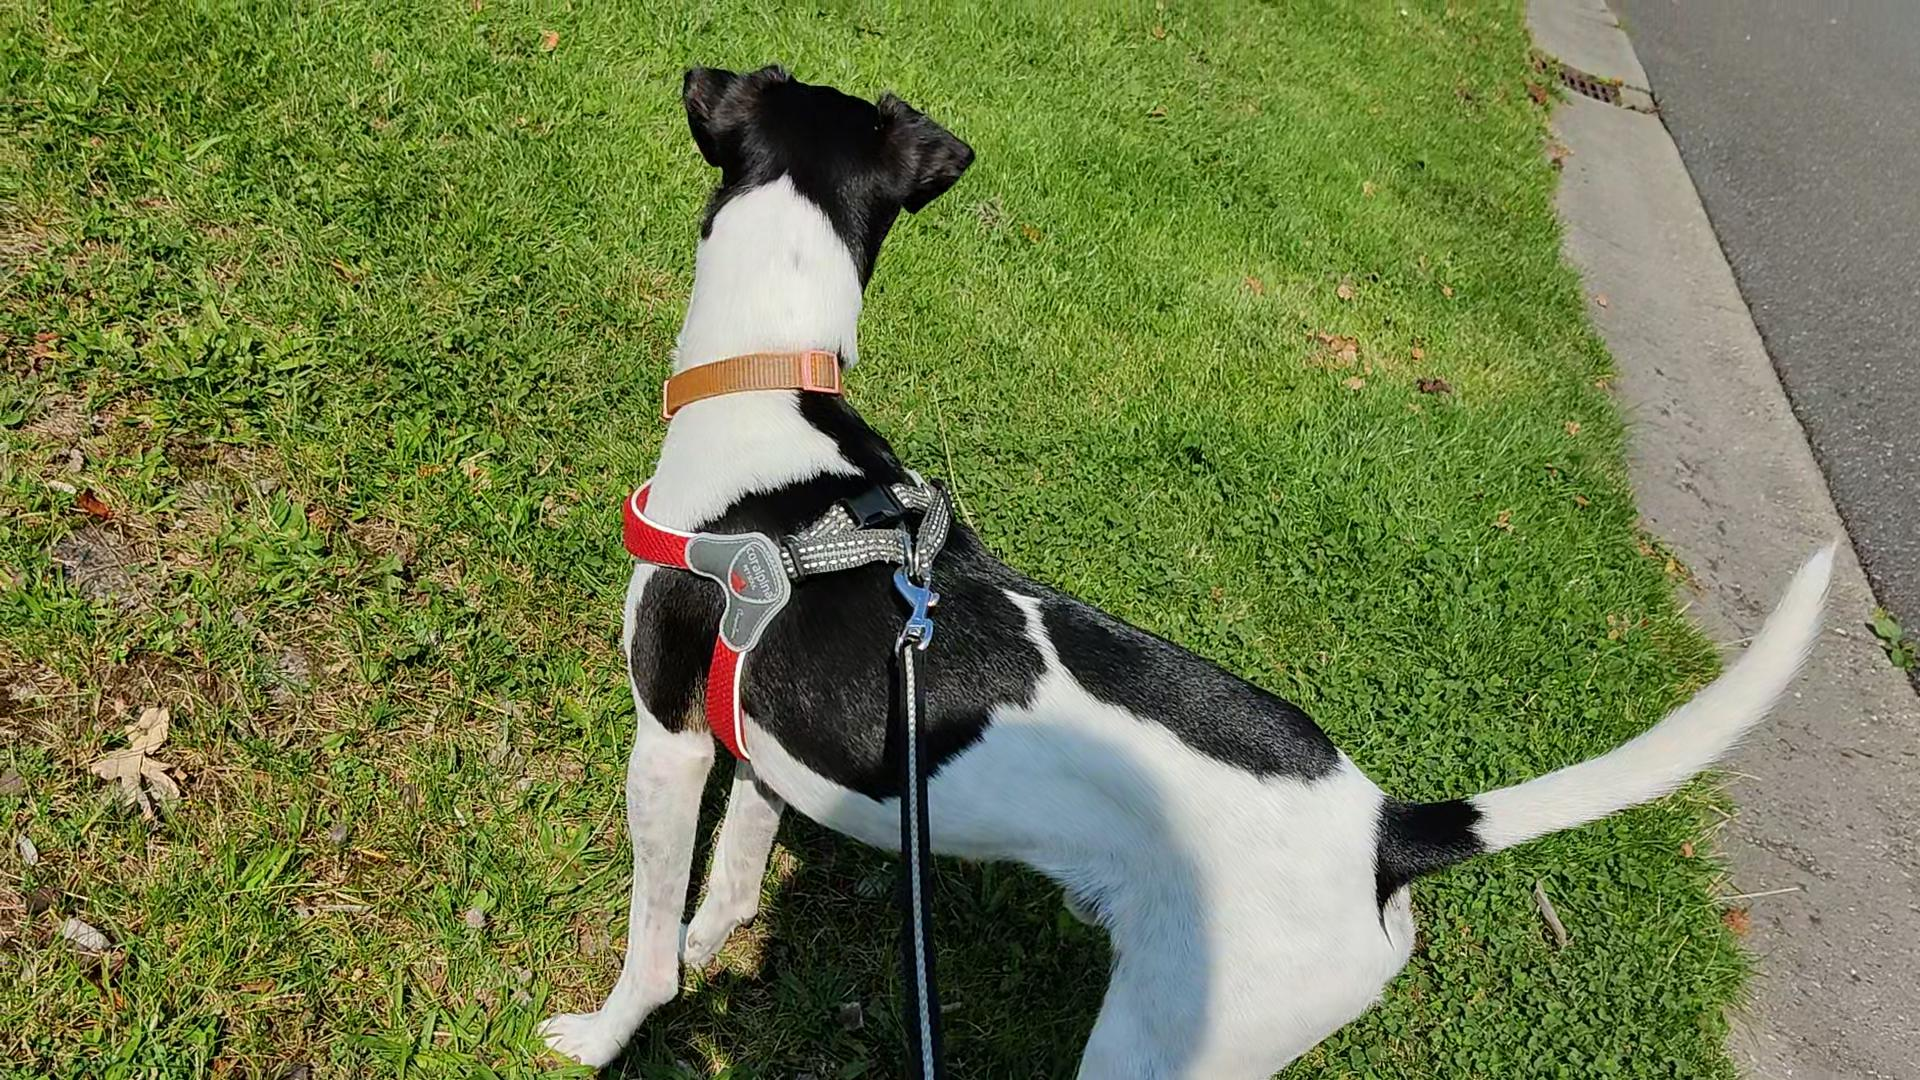Dog: (530, 57, 1847, 1079)
